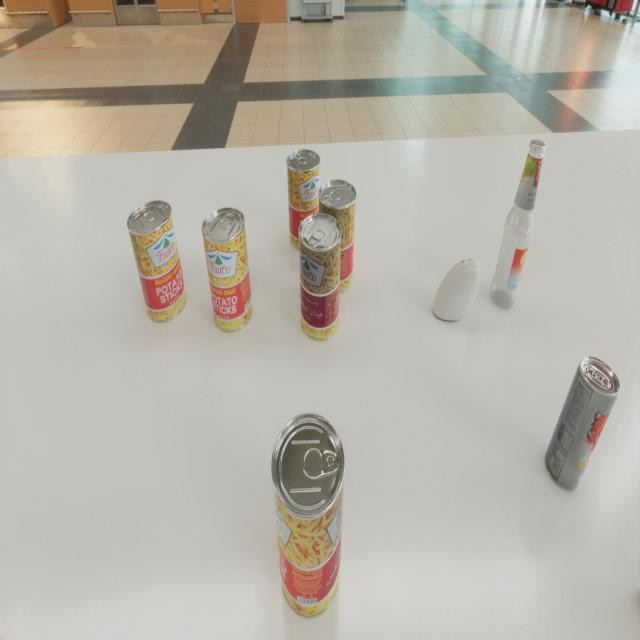Bottle: (490, 139, 546, 309)
Potato_sticks: (271, 412, 345, 618), (126, 200, 186, 323), (202, 207, 252, 333), (298, 214, 342, 342), (318, 179, 356, 294), (287, 149, 320, 251)
Rita_zero_sugar: (545, 356, 620, 491)
Salt: (432, 258, 481, 321)
